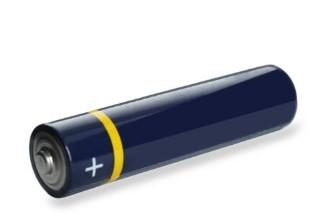Battery: (28, 64, 298, 199)
